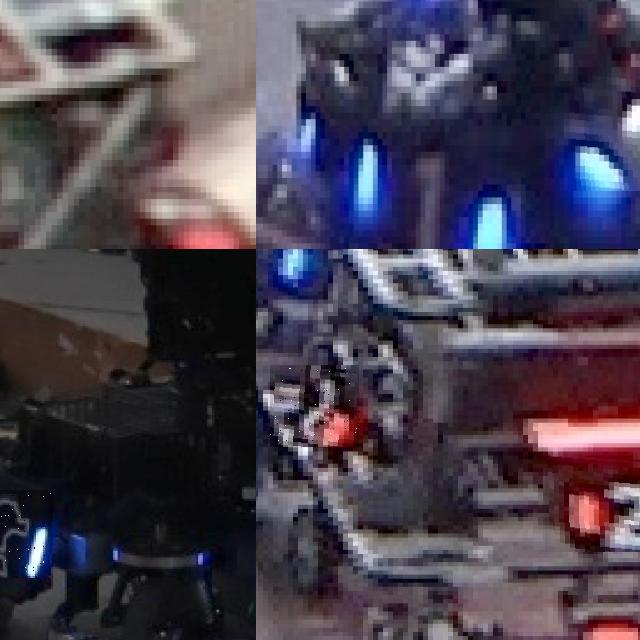B1: (348, 132, 511, 249), (568, 67, 640, 191)
Bs: (0, 489, 53, 578)
R2: (545, 453, 640, 551), (270, 366, 360, 448)
